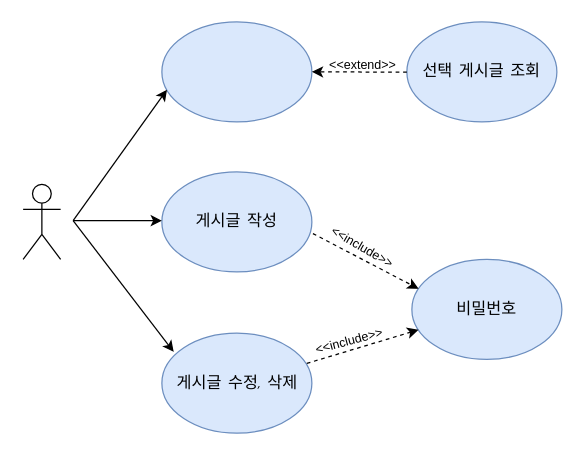
This 584x455 diagram has some shape labels left out. The shapes that lost their labels are listed below. From the top down, each one's box as (x1, y1, x2, y2) in pixels, then its label:
(161, 21, 312, 122): 게시글 조회
(22, 183, 61, 259): 사용자
